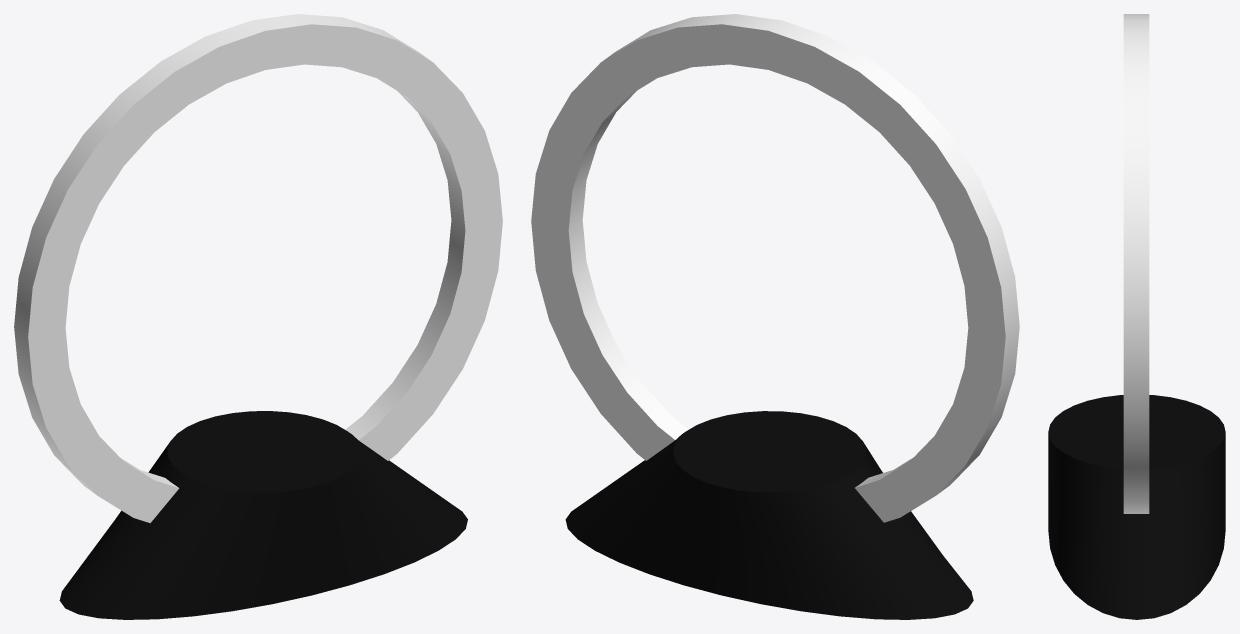
The model's file is portal.fbx.
3 renders of one model, left to right at view 1: azimuth 30°, elevation 25°; view 2: azimuth 150°, elevation 25°; view 3: azimuth 270°, elevation 25°, orthographic. The views are drawn at different scales.
Visible parts, largest first — view 1: Cylinder; view 2: Cylinder; view 3: Cylinder.
Part boxes in pixels (x1,y1,x2,y2): Cylinder: [14, 14, 502, 619]; Cylinder: [531, 14, 1019, 619]; Cylinder: [1048, 14, 1225, 619].
Bounding box in the file's own units: 464 × 500 × 163.
1 material, 1 textured.
